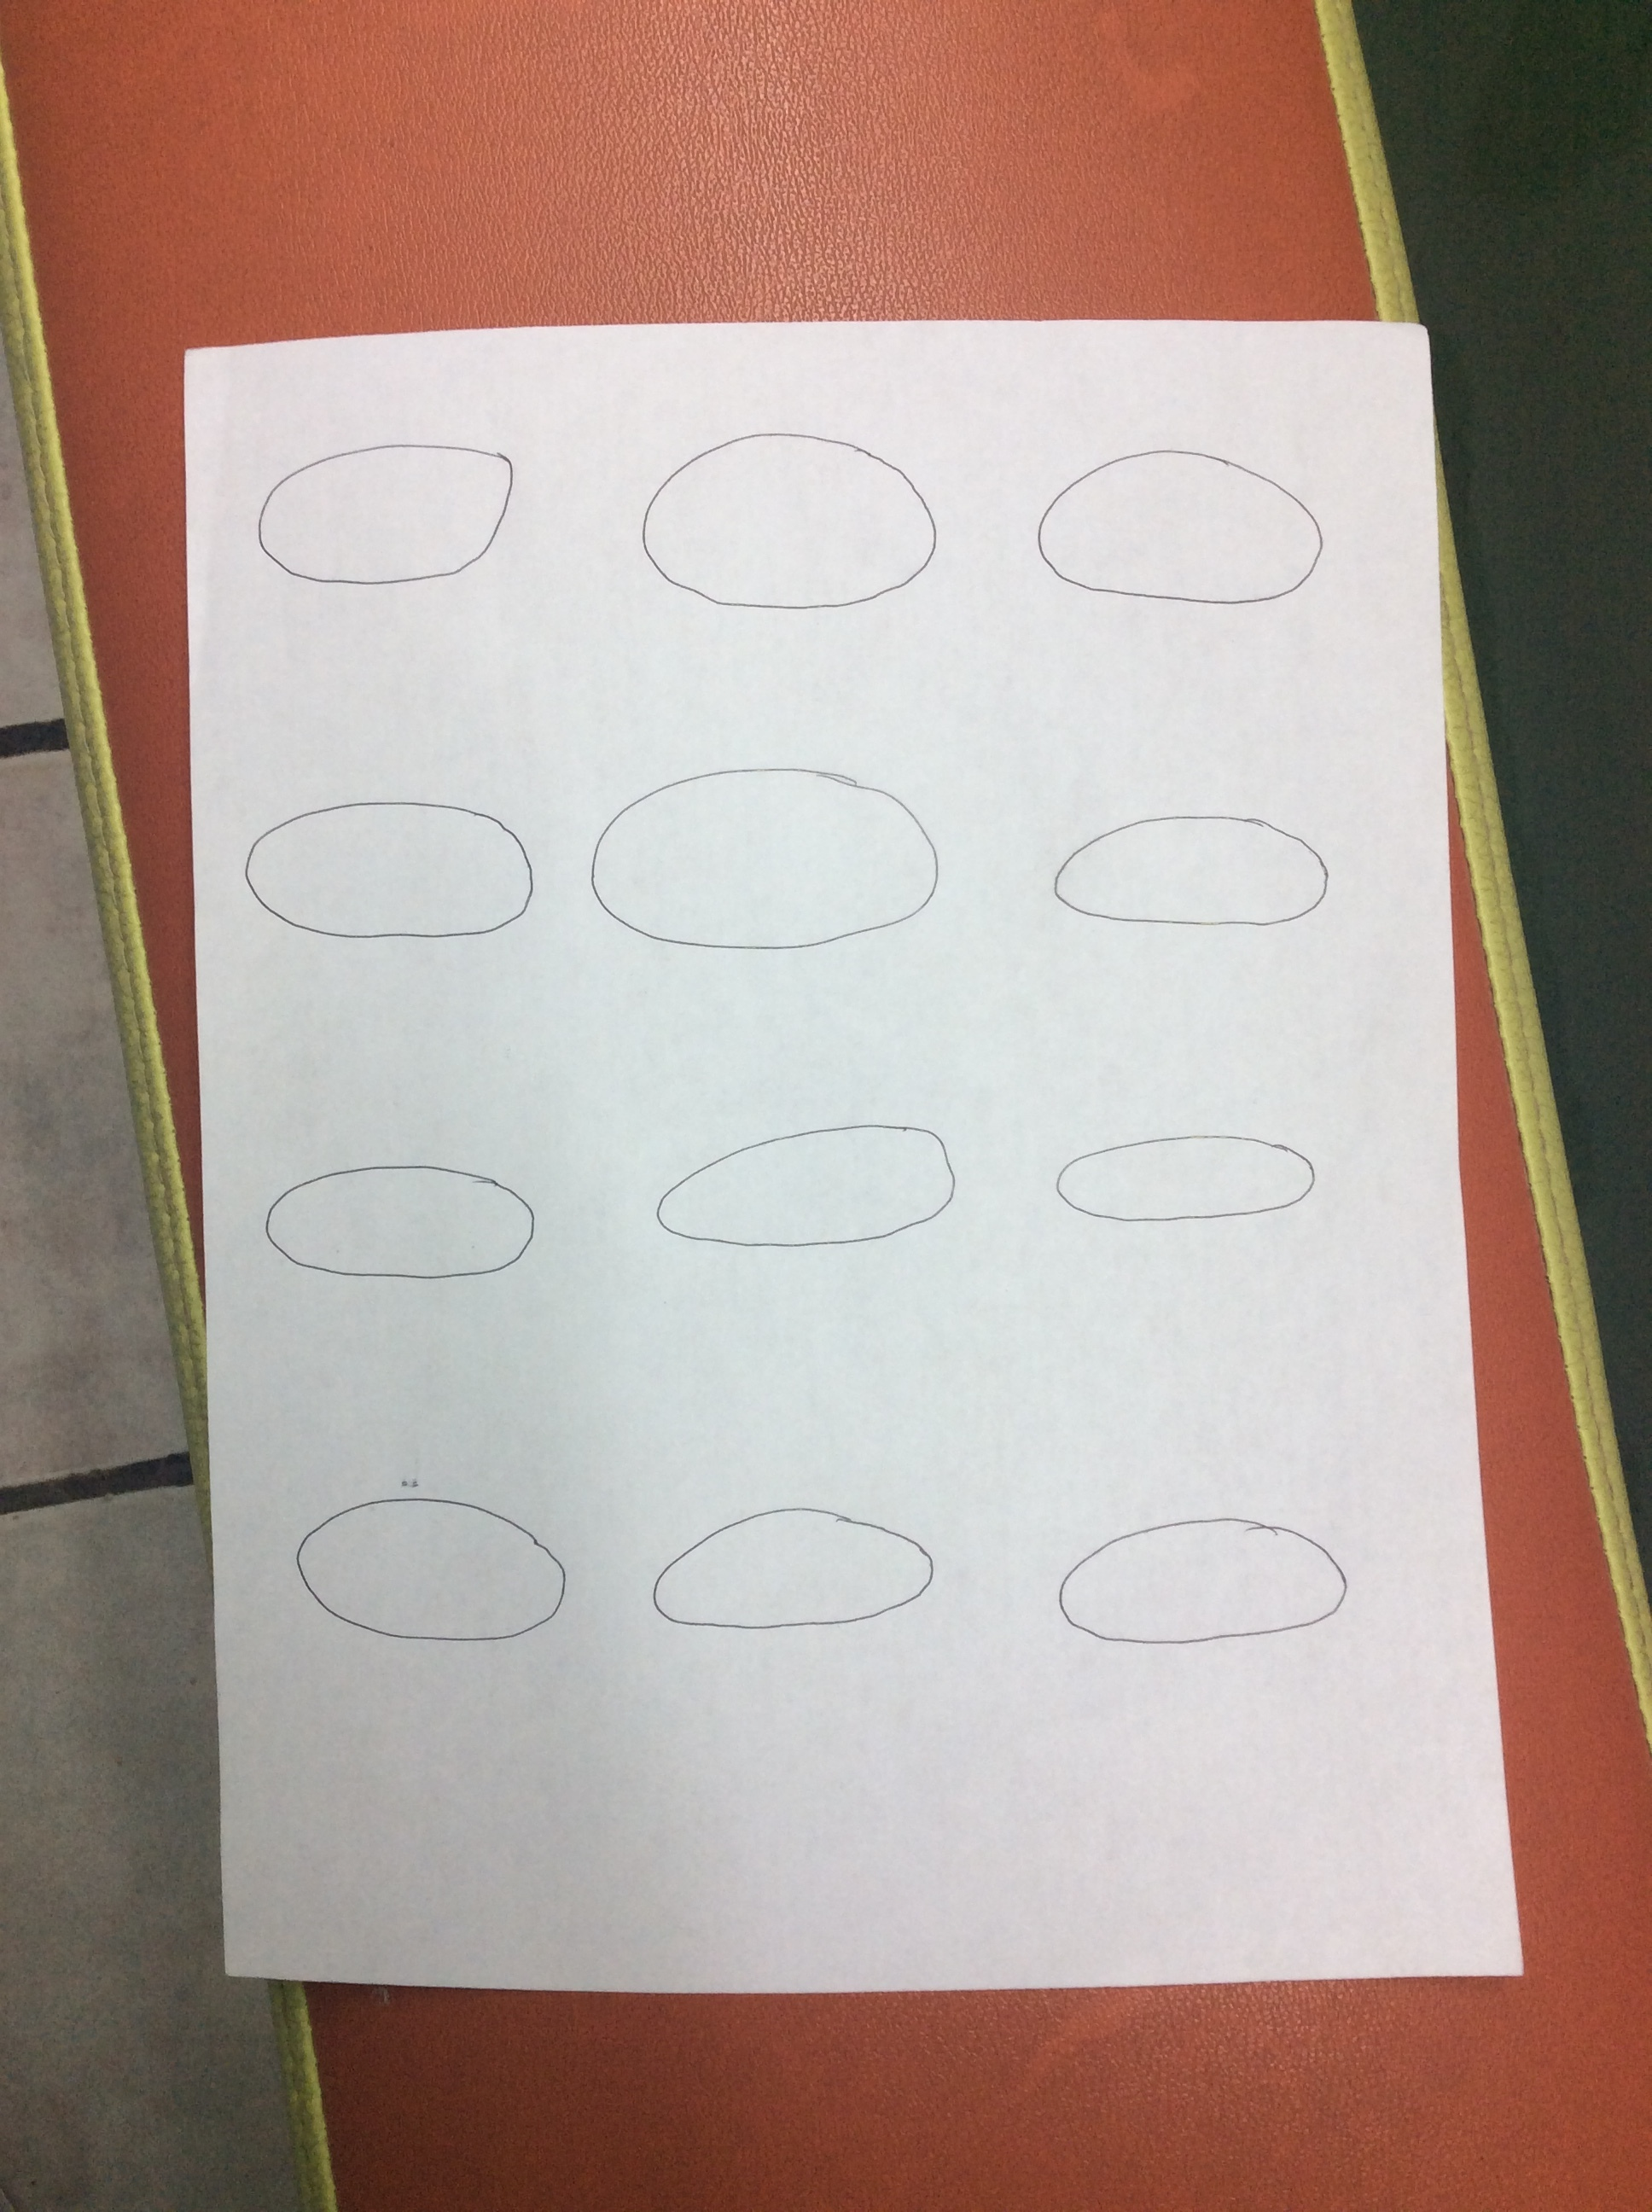start_end: (578, 748, 961, 977), (595, 409, 954, 628), (1005, 409, 1343, 635), (606, 1096, 972, 1277), (264, 1471, 571, 1683), (1036, 1489, 1364, 1676), (626, 1478, 944, 1669), (1015, 782, 1354, 959), (1015, 1079, 1343, 1260), (220, 789, 545, 963), (224, 430, 534, 611), (245, 1133, 548, 1315)
